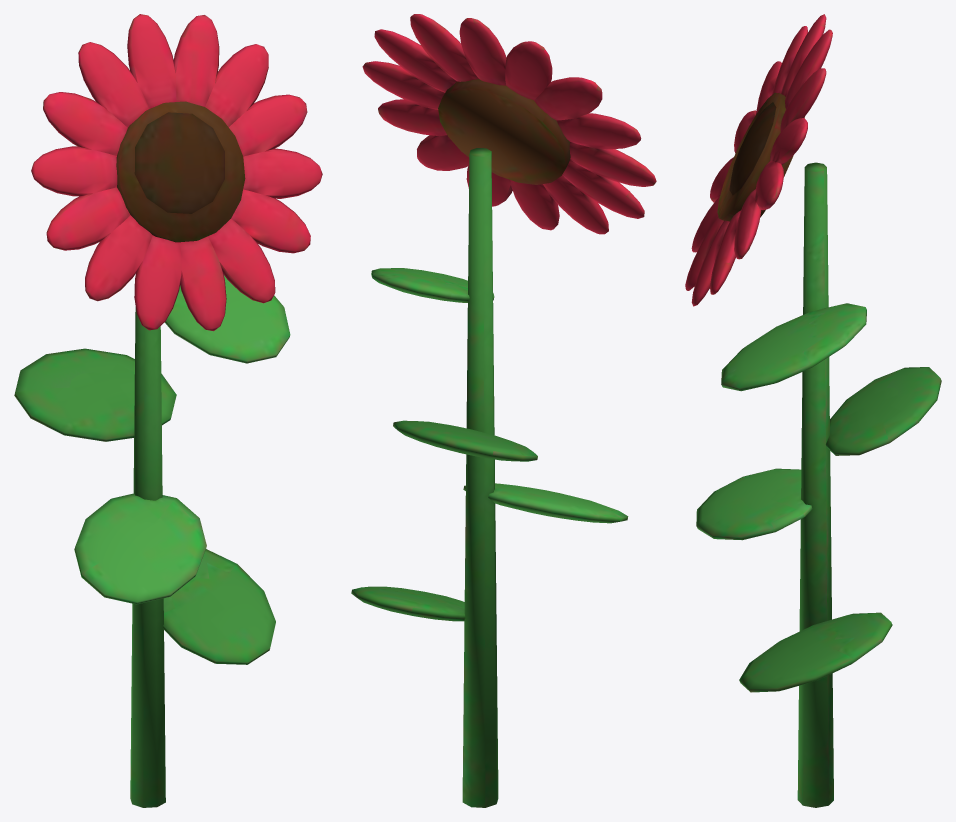
File: crop_dahlia.glb
The picture shows the model from 3 angles, left to right: view 1: azimuth 30°, elevation 25°; view 2: azimuth 150°, elevation 25°; view 3: azimuth 270°, elevation 25°; orthographic projection. The views are drawn at different scales.
Parts seen in each view (by area): view 1: crop_dahlia, fruit; view 2: crop_dahlia, fruit; view 3: crop_dahlia, fruit.
Boxes of the visible parts, left/top/right/bottom form: crop_dahlia: left=14, top=101, right=290, bottom=807; fruit: left=31, top=14, right=322, bottom=331; crop_dahlia: left=351, top=79, right=628, bottom=807; fruit: left=362, top=14, right=656, bottom=234; crop_dahlia: left=696, top=92, right=941, bottom=807; fruit: left=685, top=14, right=832, bottom=306.
Bounding box in the file's own units: 0.2242 × 0.6079 × 0.1837.
1 material, 1 textured.
